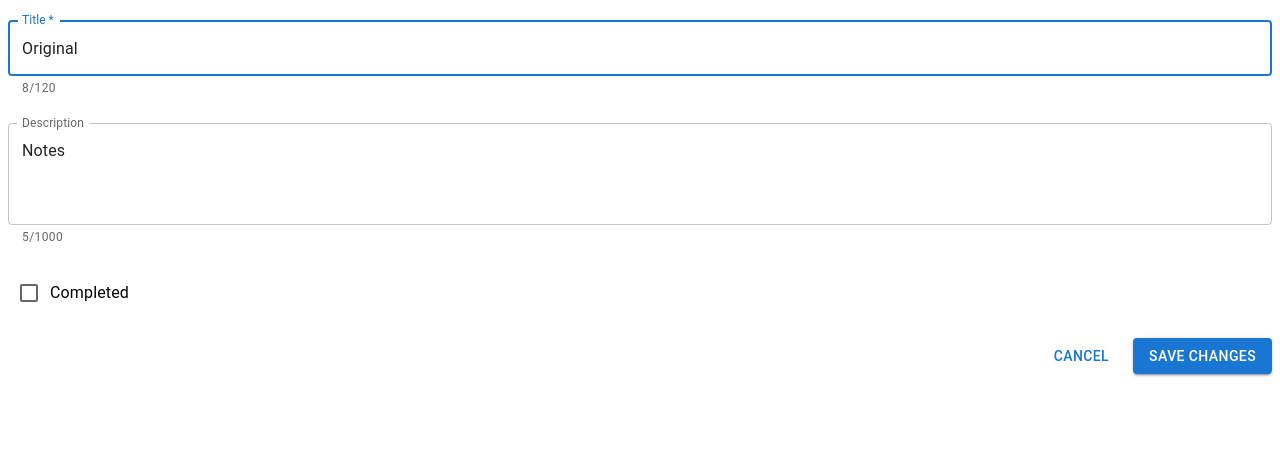
it: EditTaskForm › warns about a conflicting change and reloads the latest version
Step 1. Type " (mine)" into the field labelled "Title *" → coordinates (640, 48), box [8,20,1272,76]
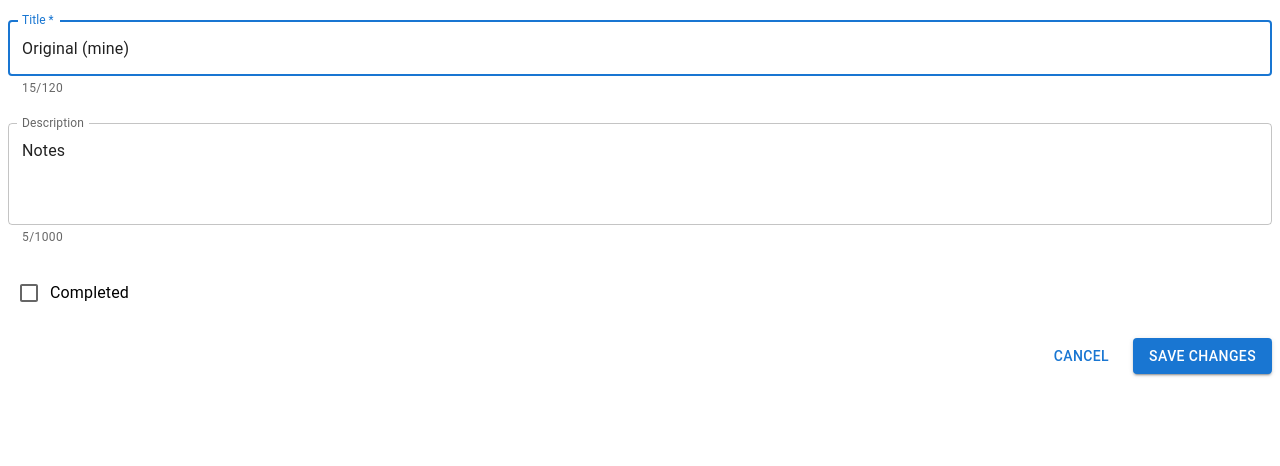
Step 2. Click the button "Save changes" → coordinates (1203, 356), box [1133,338,1272,374]
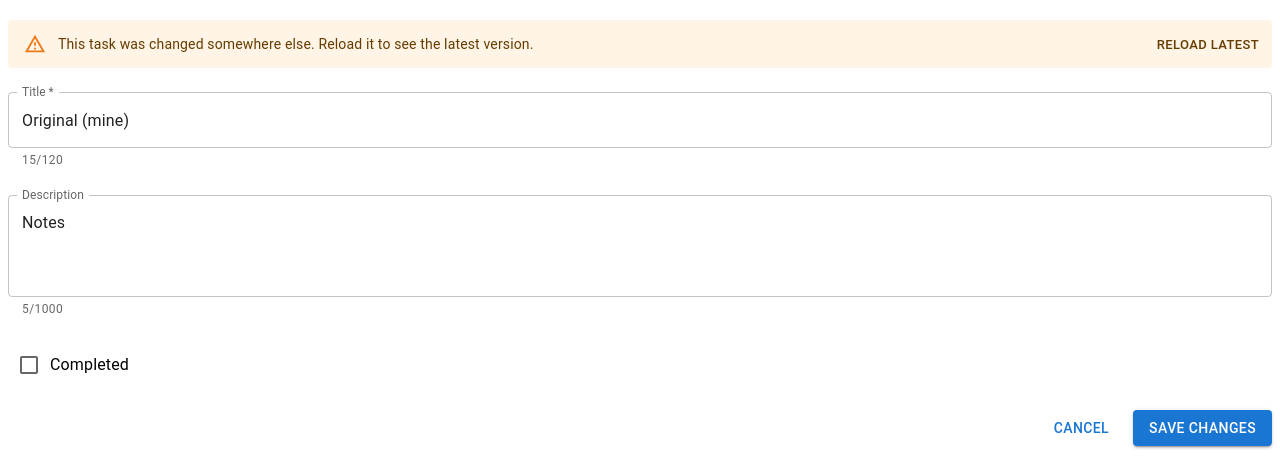
Check: the text "changed somewhere else" is shown, box [58,36,534,52]
Step 3. Click the button "Reload latest" → coordinates (1208, 45), box [1152,30,1264,61]
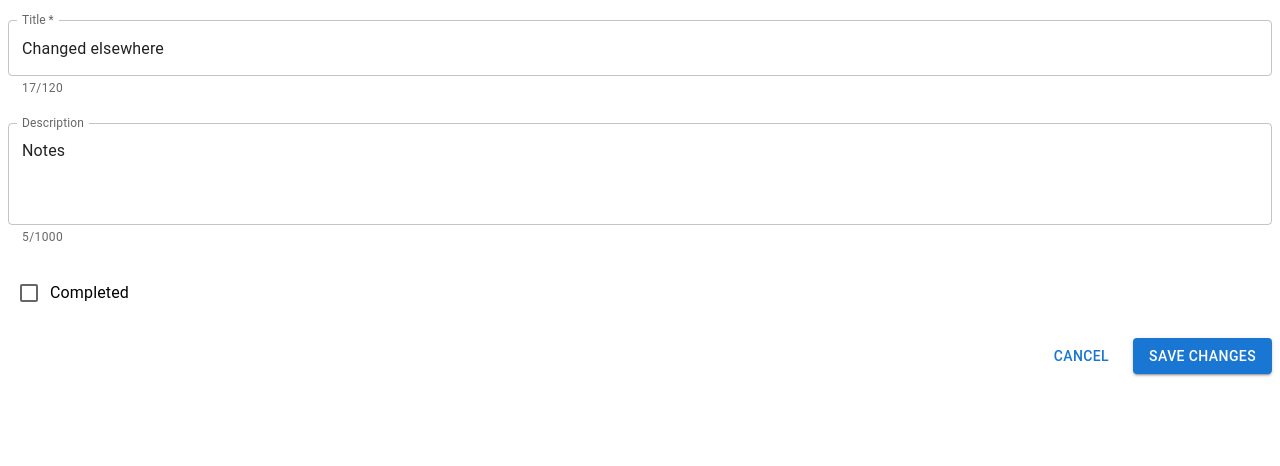
Check: the field showing "Changed elsewhere" is shown, box [8,20,1272,76]
Check: the text "changed somewhere else" is gone
